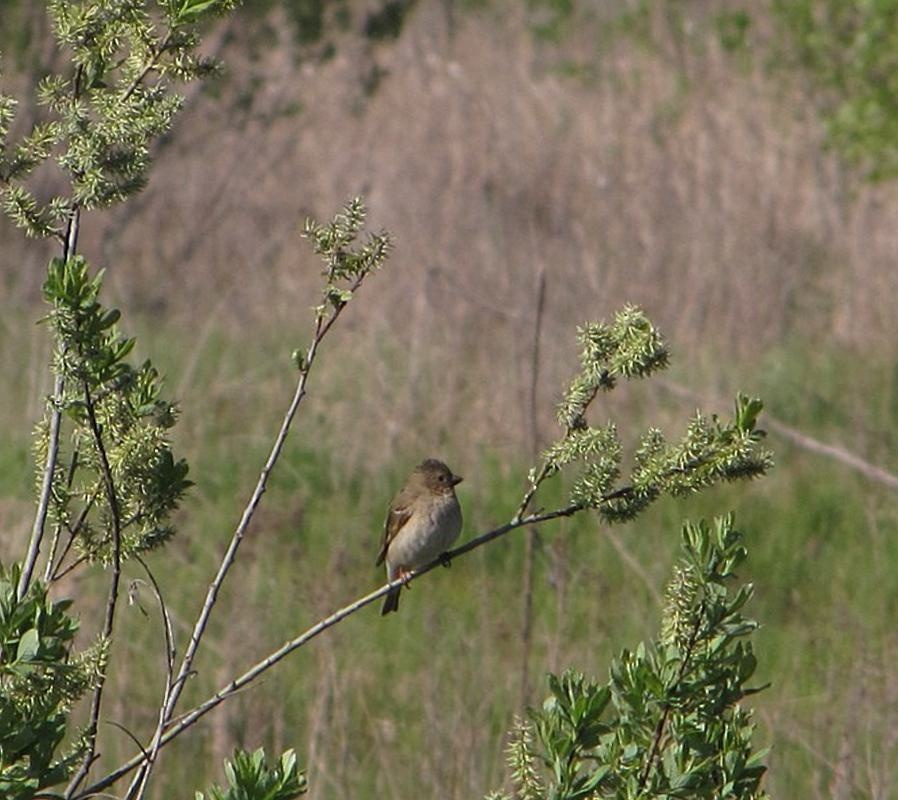rosefinch: (371, 443, 462, 612)
